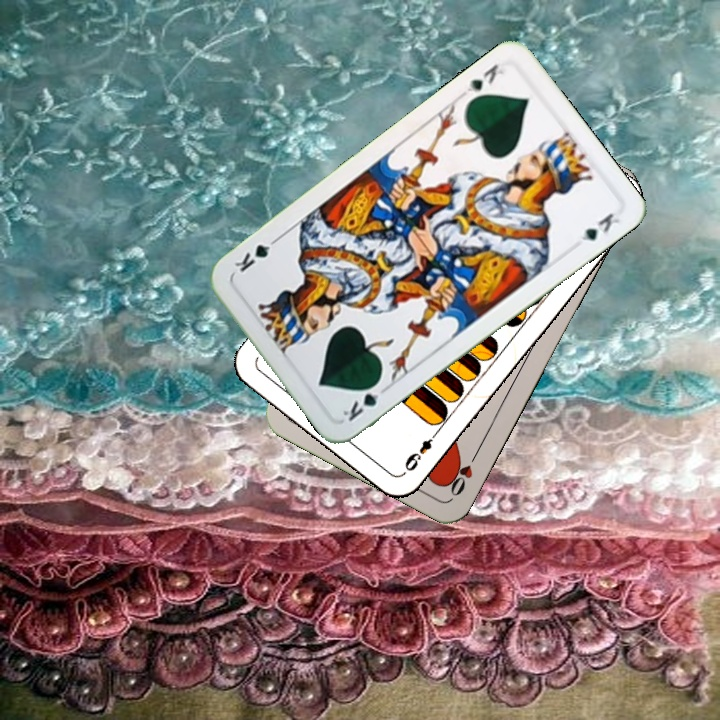E9: (400, 426, 442, 476)
GK: (338, 376, 390, 425), (462, 59, 507, 96)
HO: (442, 446, 482, 499)
